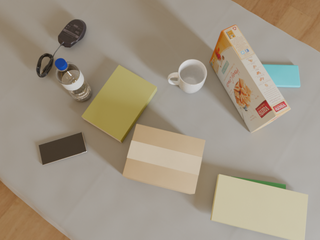book: (210, 174, 308, 240), (82, 65, 157, 143)
bottle: (55, 58, 92, 101)
box: (210, 25, 290, 133), (122, 124, 205, 194)
cup: (168, 60, 207, 93)
mouse: (58, 19, 86, 47)
phone: (39, 132, 87, 165), (263, 65, 300, 87)
